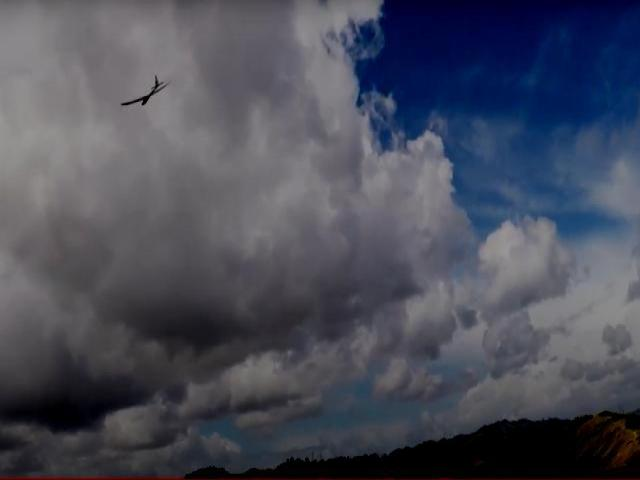iha: (120, 72, 169, 112)
